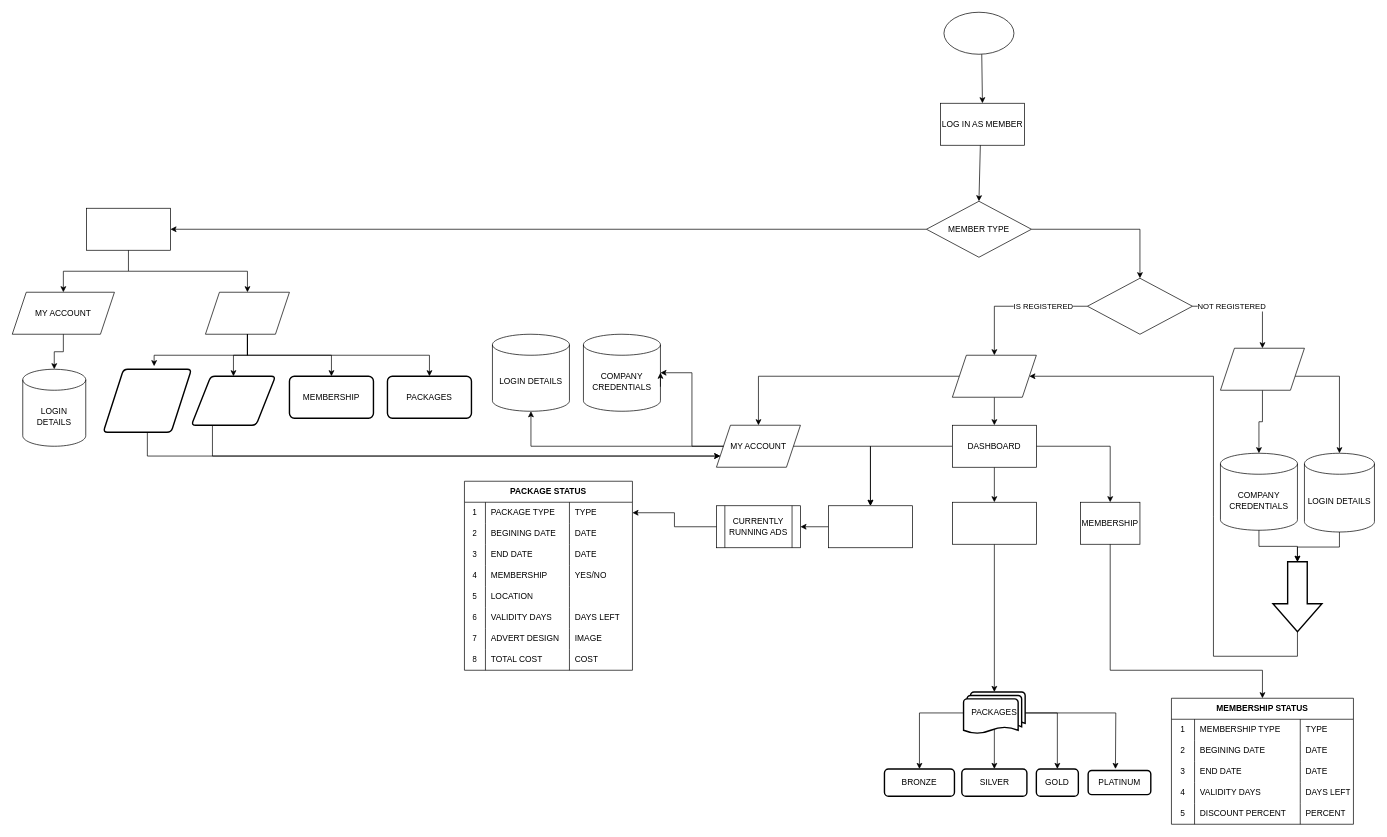
This 1387x837 diagram has some shape labels left out. Each missing label, with the centre of its shape:
"ADMIN" goes at point (128, 229).
"BUY NEW" goes at point (994, 523).
"CUSTOMER MEMBERSHIP" goes at point (147, 400).
"CUSTOMER PACKAGES" goes at point (233, 400).
"CUSTOMERS" goes at point (247, 313).
"LOGIN" goes at point (994, 376).
"MY PURCHASE" goes at point (870, 526).
"REDIRECT" goes at point (1297, 596).
"SIGN UP" goes at point (1262, 369).
"Start" goes at point (978, 33).
"USER" goes at point (1139, 306).
